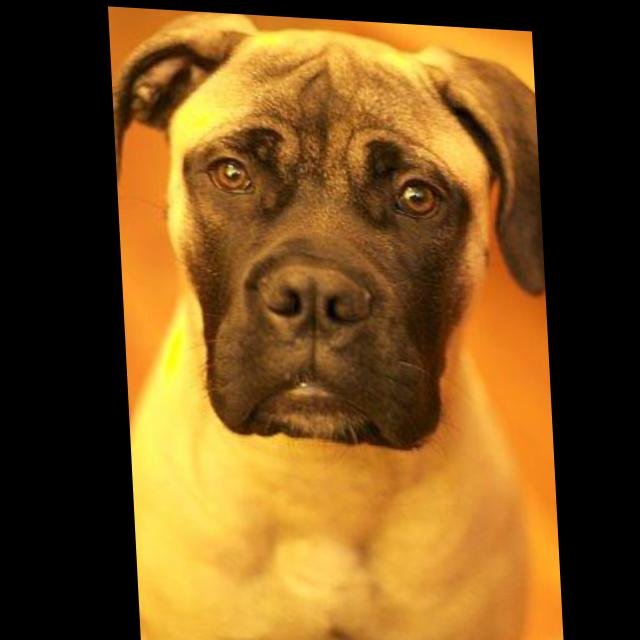bullmastiff: (109, 6, 559, 640)
